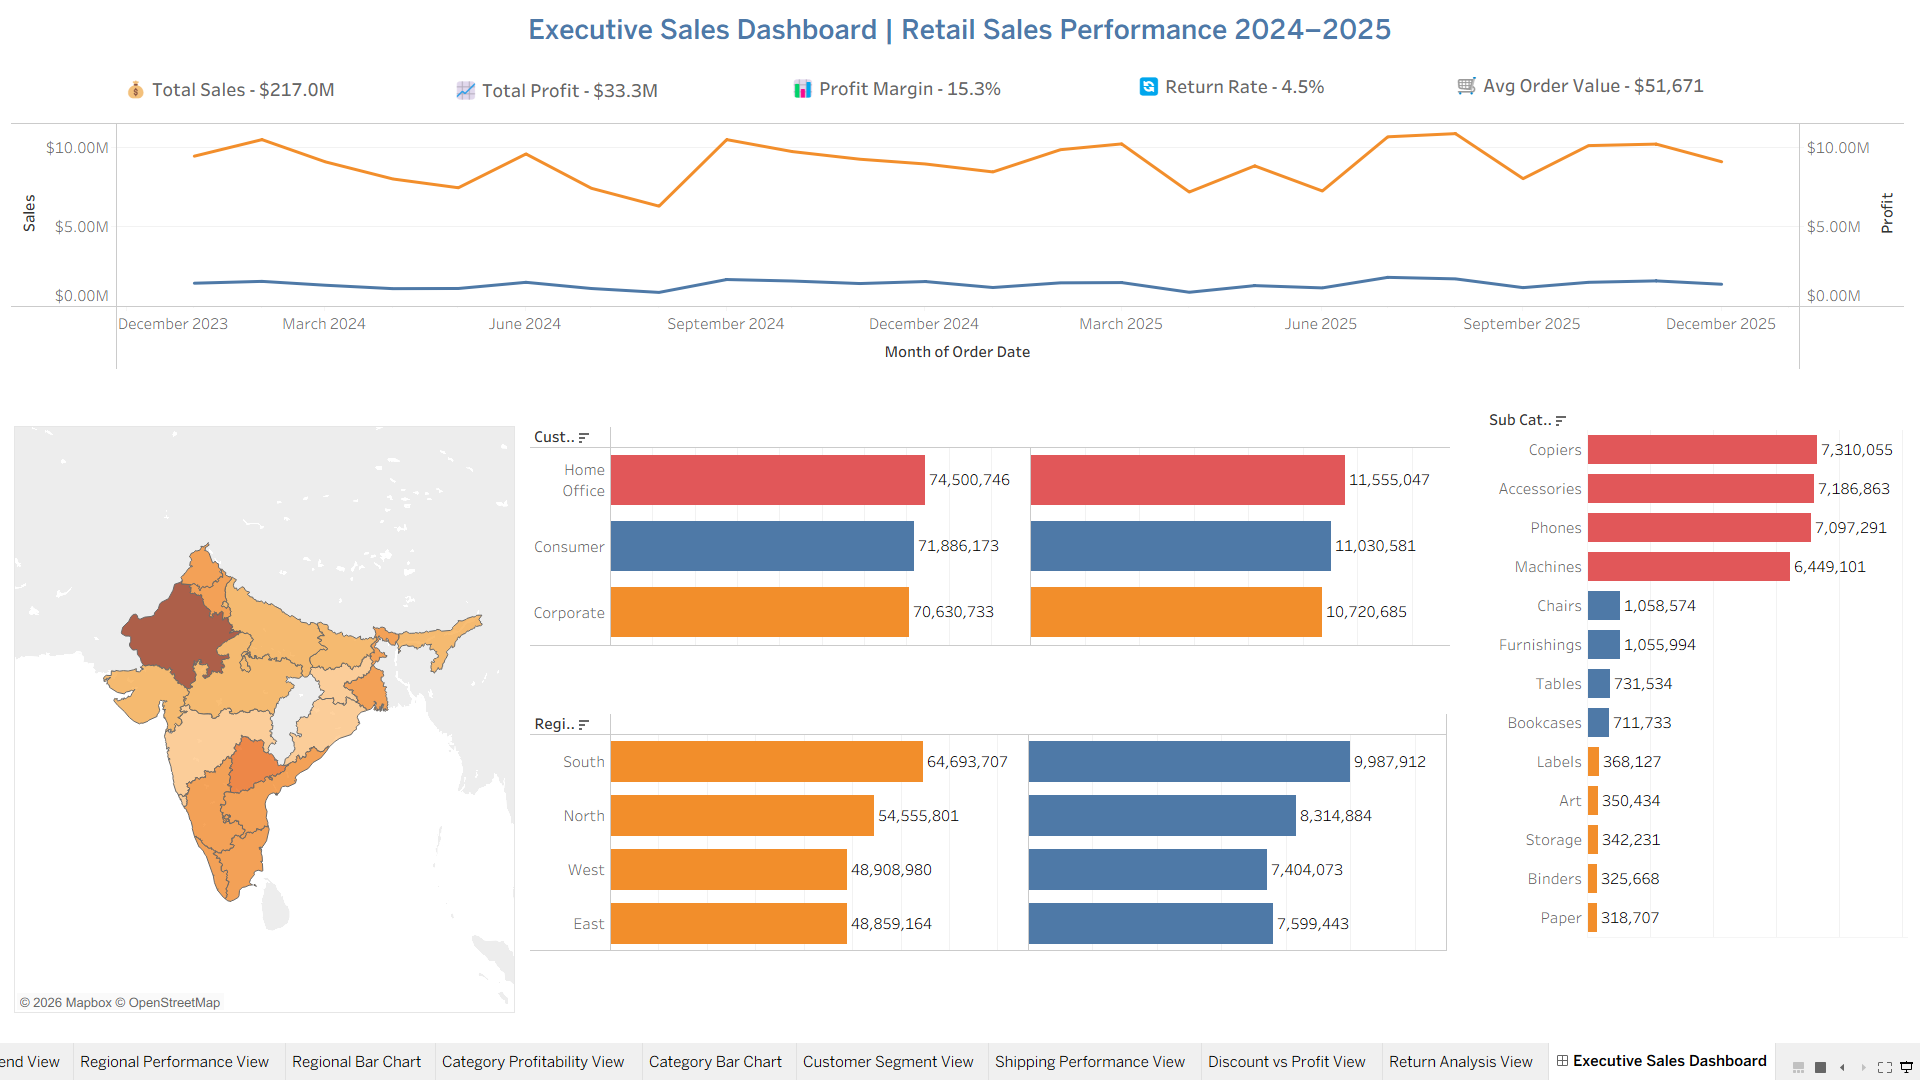

The dashboard page shown, as its layout file describes it:
{"tool":"tableau","page":{"name":"Executive Sales Dashboard","canvas":[1000,1000],"units":"permille","ordinal":0},"visuals":[{"type":"title","box":[4.9,8.8,990.2,48.3]},{"type":"text","box":[755.6,61.6,161.1,40.6]},{"type":"text","box":[590.2,62.7,124.9,40.6]},{"type":"text","box":[409.8,69.7,149.1,29]},{"type":"text","box":[62.8,70.9,149.1,29]},{"type":"text","box":[234.2,72,149.1,29]},{"type":"worksheet","title":"Sales Trend View","mark":"Line","rows":["sales","profit"],"cols":["order_date"],"box":[5.5,117.5,986.5,279.9]},{"type":"worksheet","title":"Category Bar Chart","mark":"Bar","rows":["sub_category"],"cols":["profit"],"box":[774.3,390.8,219.6,607]},{"type":"worksheet","title":"Regional Performance View","mark":"Multipolygon","box":[7.3,408.3,261.2,577.4]},{"type":"worksheet","title":"Customer Segment View","mark":"Bar","rows":["customer_segment"],"cols":["sales","profit"],"box":[275.8,409.4,479.5,273.3]}]}

Visuals, with their boxes on the dashboard's canvas, which has no fixed pixel size, in thousandths of its width and height (x1, y1, x2, y2). These are canvas units, not pixel positions in the 1920x1080 screenshot, which may show the page scaled, cropped or inside an application window:
title: {"x1": 5, "y1": 9, "x2": 995, "y2": 57}
text: {"x1": 756, "y1": 62, "x2": 917, "y2": 102}
text: {"x1": 590, "y1": 63, "x2": 715, "y2": 103}
text: {"x1": 410, "y1": 70, "x2": 559, "y2": 99}
text: {"x1": 63, "y1": 71, "x2": 212, "y2": 100}
text: {"x1": 234, "y1": 72, "x2": 383, "y2": 101}
"Sales Trend View" worksheet (Line marks): {"x1": 6, "y1": 118, "x2": 992, "y2": 397}
"Category Bar Chart" worksheet (Bar marks): {"x1": 774, "y1": 391, "x2": 994, "y2": 998}
"Regional Performance View" worksheet (Multipolygon marks): {"x1": 7, "y1": 408, "x2": 268, "y2": 986}
"Customer Segment View" worksheet (Bar marks): {"x1": 276, "y1": 409, "x2": 755, "y2": 683}
